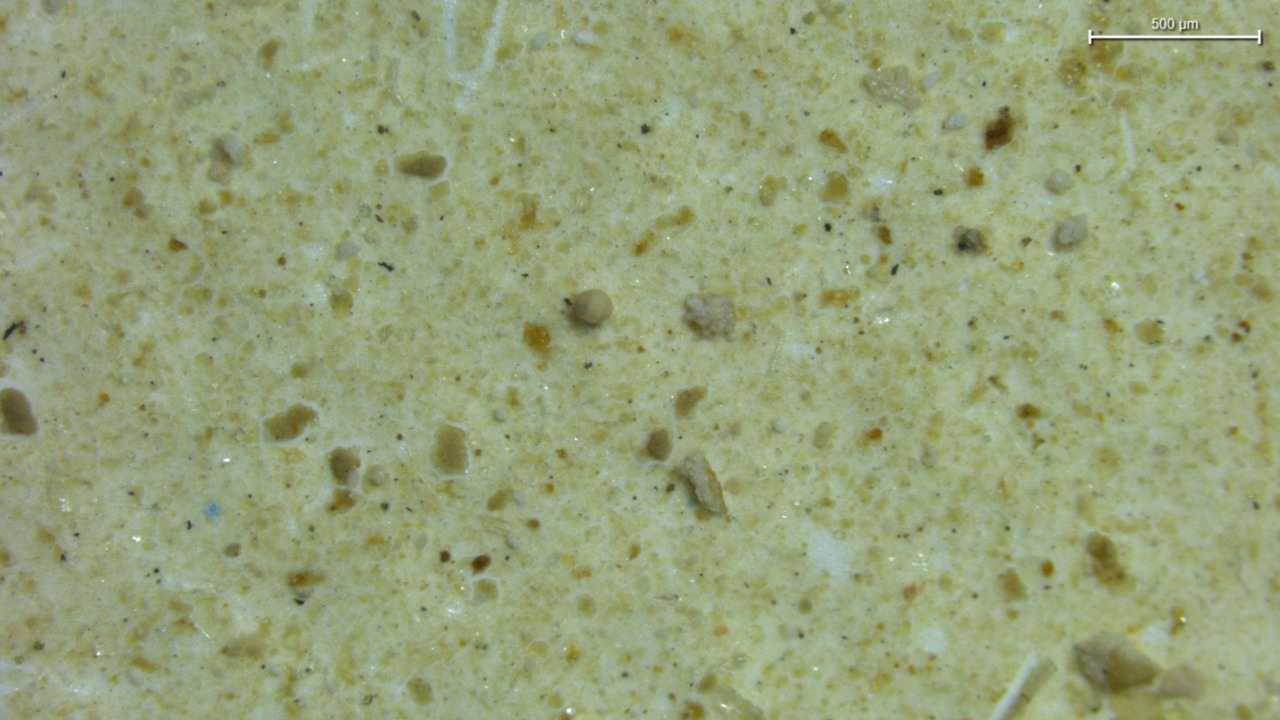microplastic_fragment: (674, 453, 727, 516), (861, 66, 926, 110), (684, 295, 736, 338), (572, 289, 613, 325), (1056, 214, 1087, 245), (1045, 170, 1074, 194), (943, 113, 968, 129)
